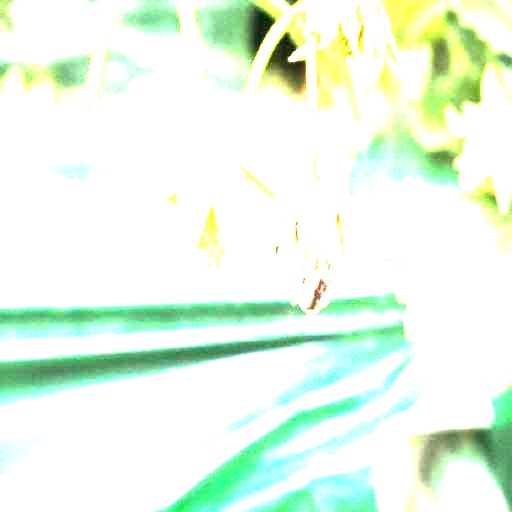Gray Mold: (266, 160, 364, 315)
